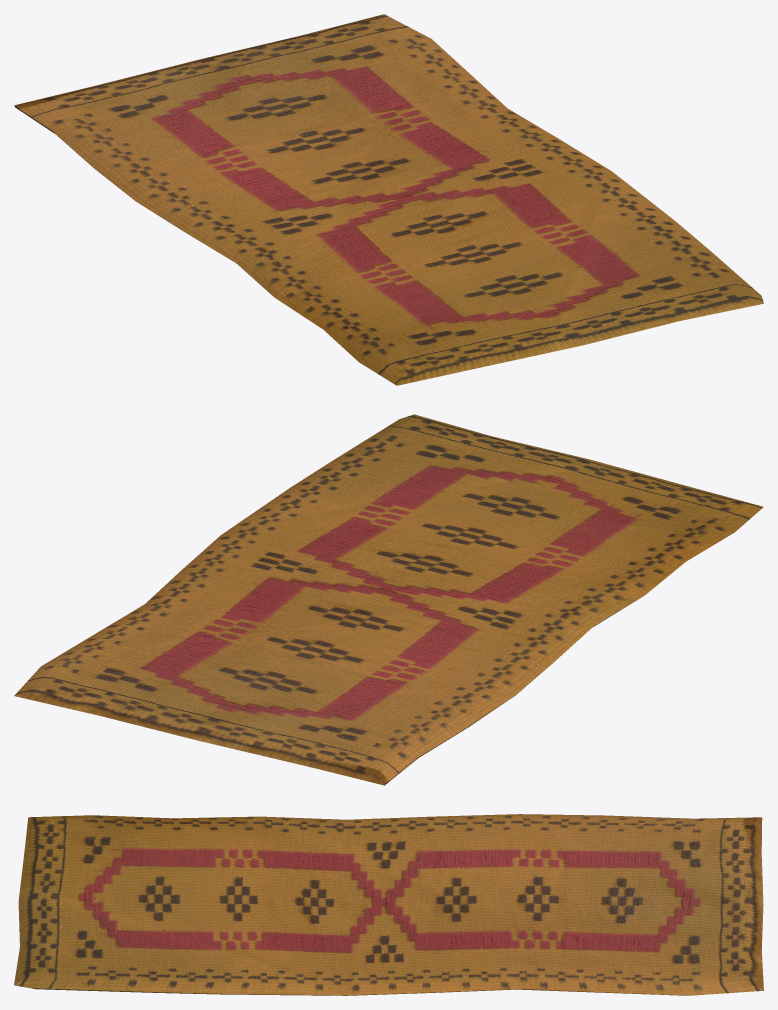
The model's file is carpet.glb.
3 views of the same model, one above another, from view 1: azimuth 30°, elevation 25°; view 2: azimuth 150°, elevation 25°; view 3: azimuth 270°, elevation 25° (orthographic). The views are drawn at different scales.
Parts seen in each view (by area): view 1: Carpet; view 2: Carpet; view 3: Carpet.
Boxes of the visible parts, x1=… form: Carpet: x1=14, y1=14, x2=763, y2=385; Carpet: x1=14, y1=414, x2=763, y2=785; Carpet: x1=14, y1=814, x2=763, y2=995.
Size of the model in its own units: 1.26 by 0.0208 by 2.2.
Materials: 1 (1 with a texture image).
